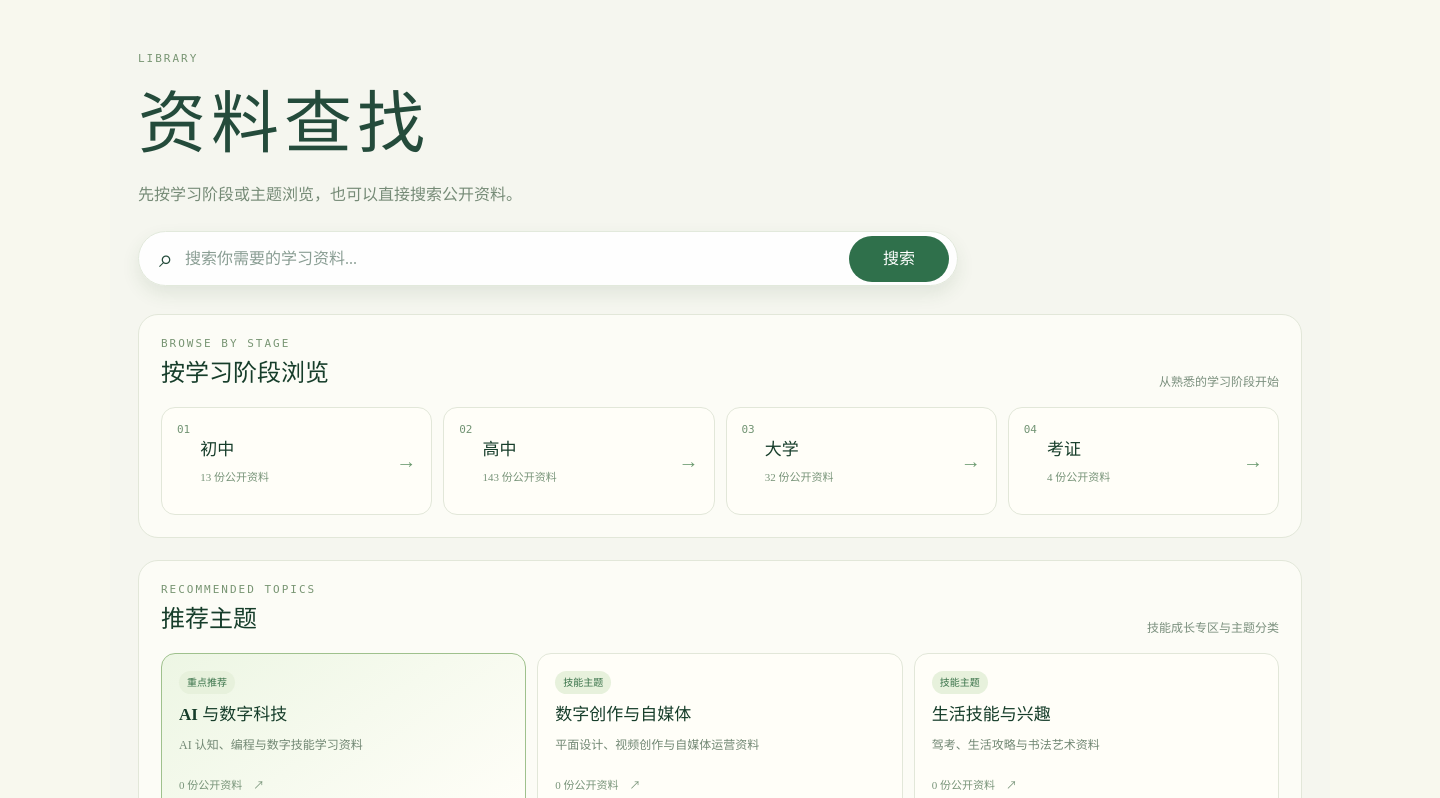
Scenario: resource discovery layout › shows real stage counts and opens the corresponding result scope
Click the link "01 初中 13 份公开资料 →". click: [217, 449]
box: left=161, top=407, right=432, bottom=515
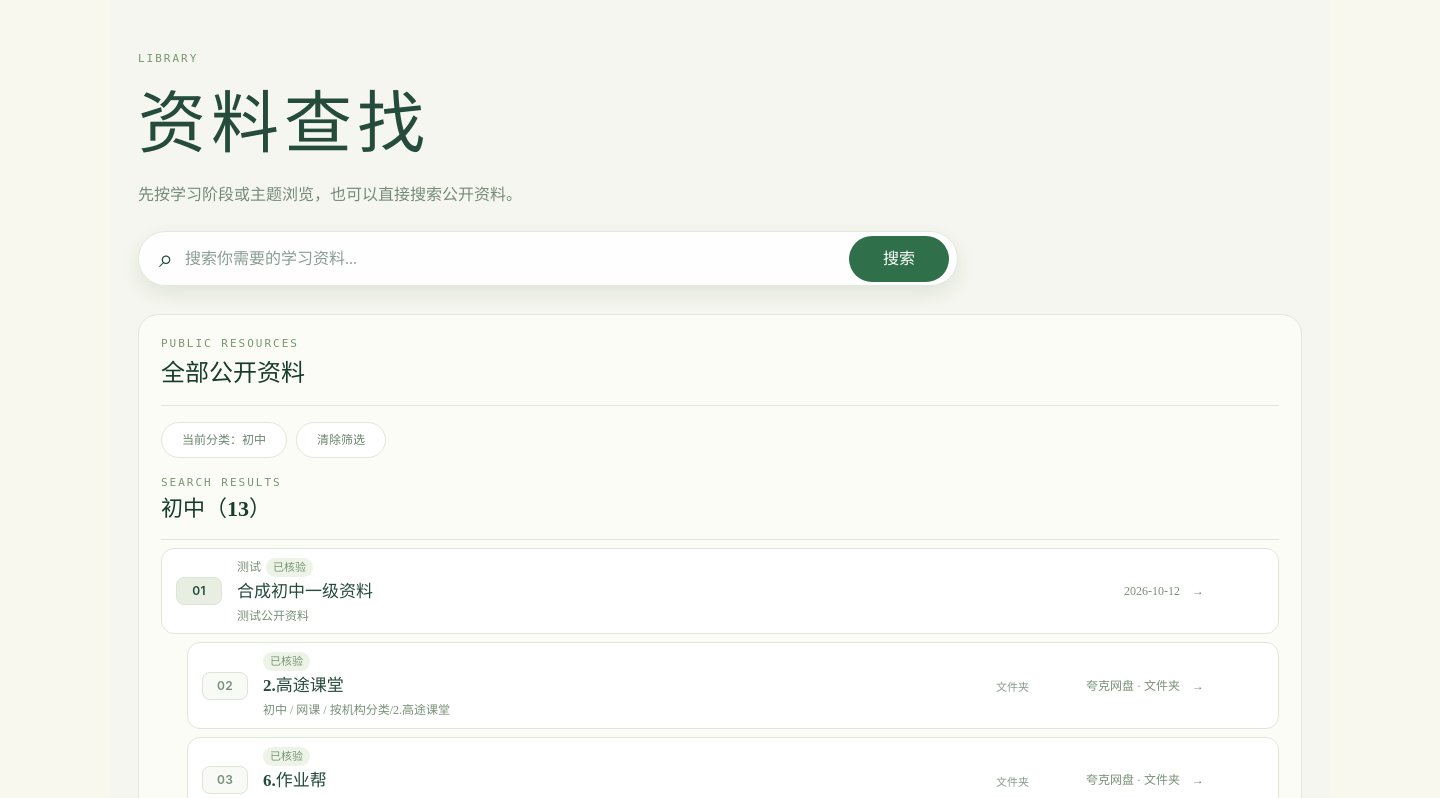
Result: the text "合成初中一级资料" is shown at left=237, top=582, right=373, bottom=601
